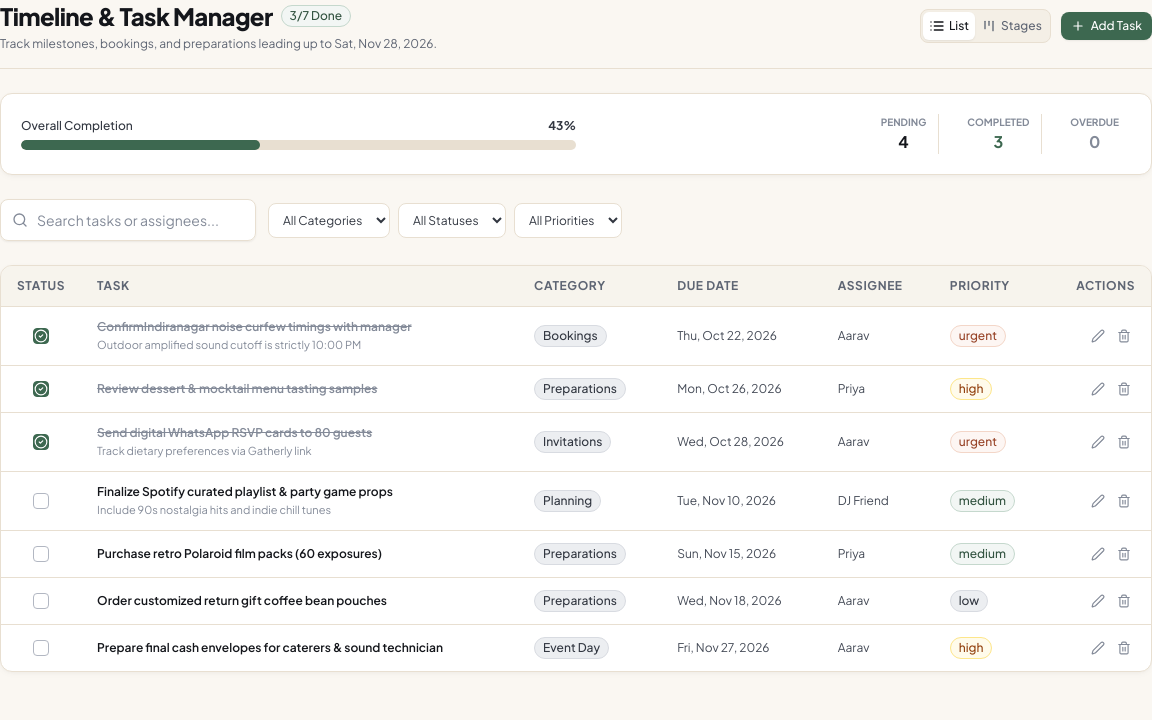
Test: TasksPage Feature Tests › opens Create Task modal and adds a new milestone task
Click the button "Add Task": (1106, 26) [1061,12,1151,40]
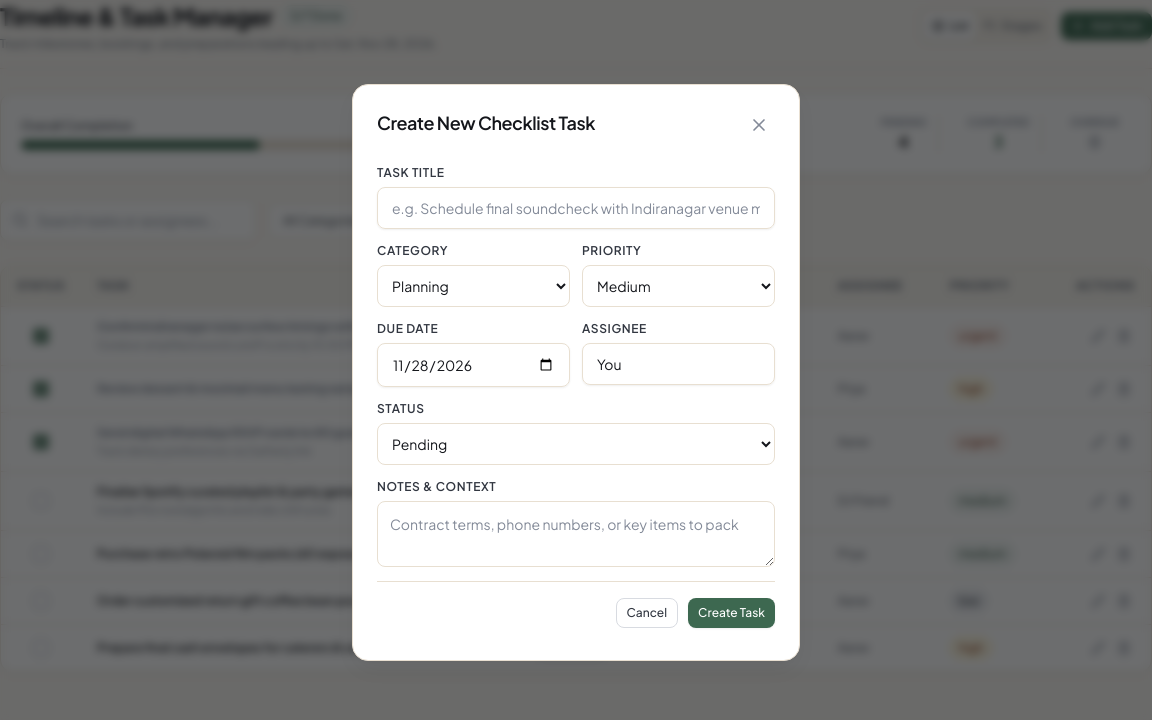
Result: the dialog "Create New Checklist Task" is shown at [352,84,800,660]
Replace the text in the field labelled "Task Title" with "Order custom cake topper": (576, 208) [377,186,775,228]
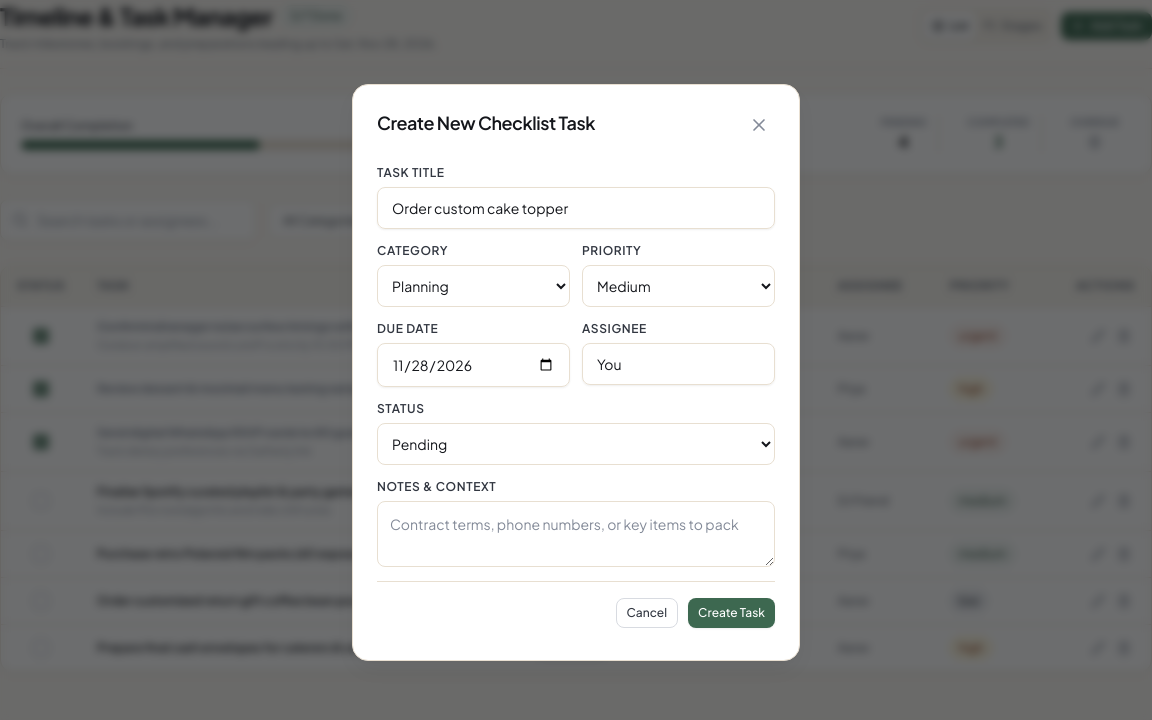
Click the button "Create Task": (732, 612) [688,598,775,628]
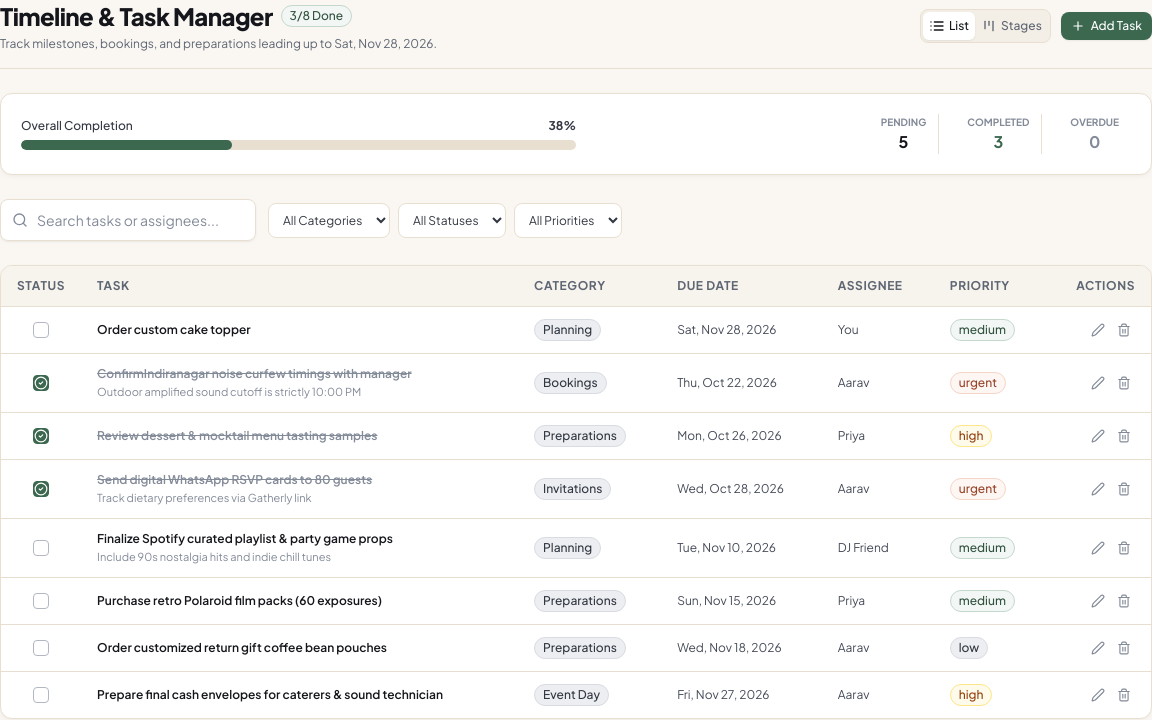
Result: the heading "Create New Checklist Task" is gone
Result: the text "Order custom cake topper" is shown at [97,322,251,337]
